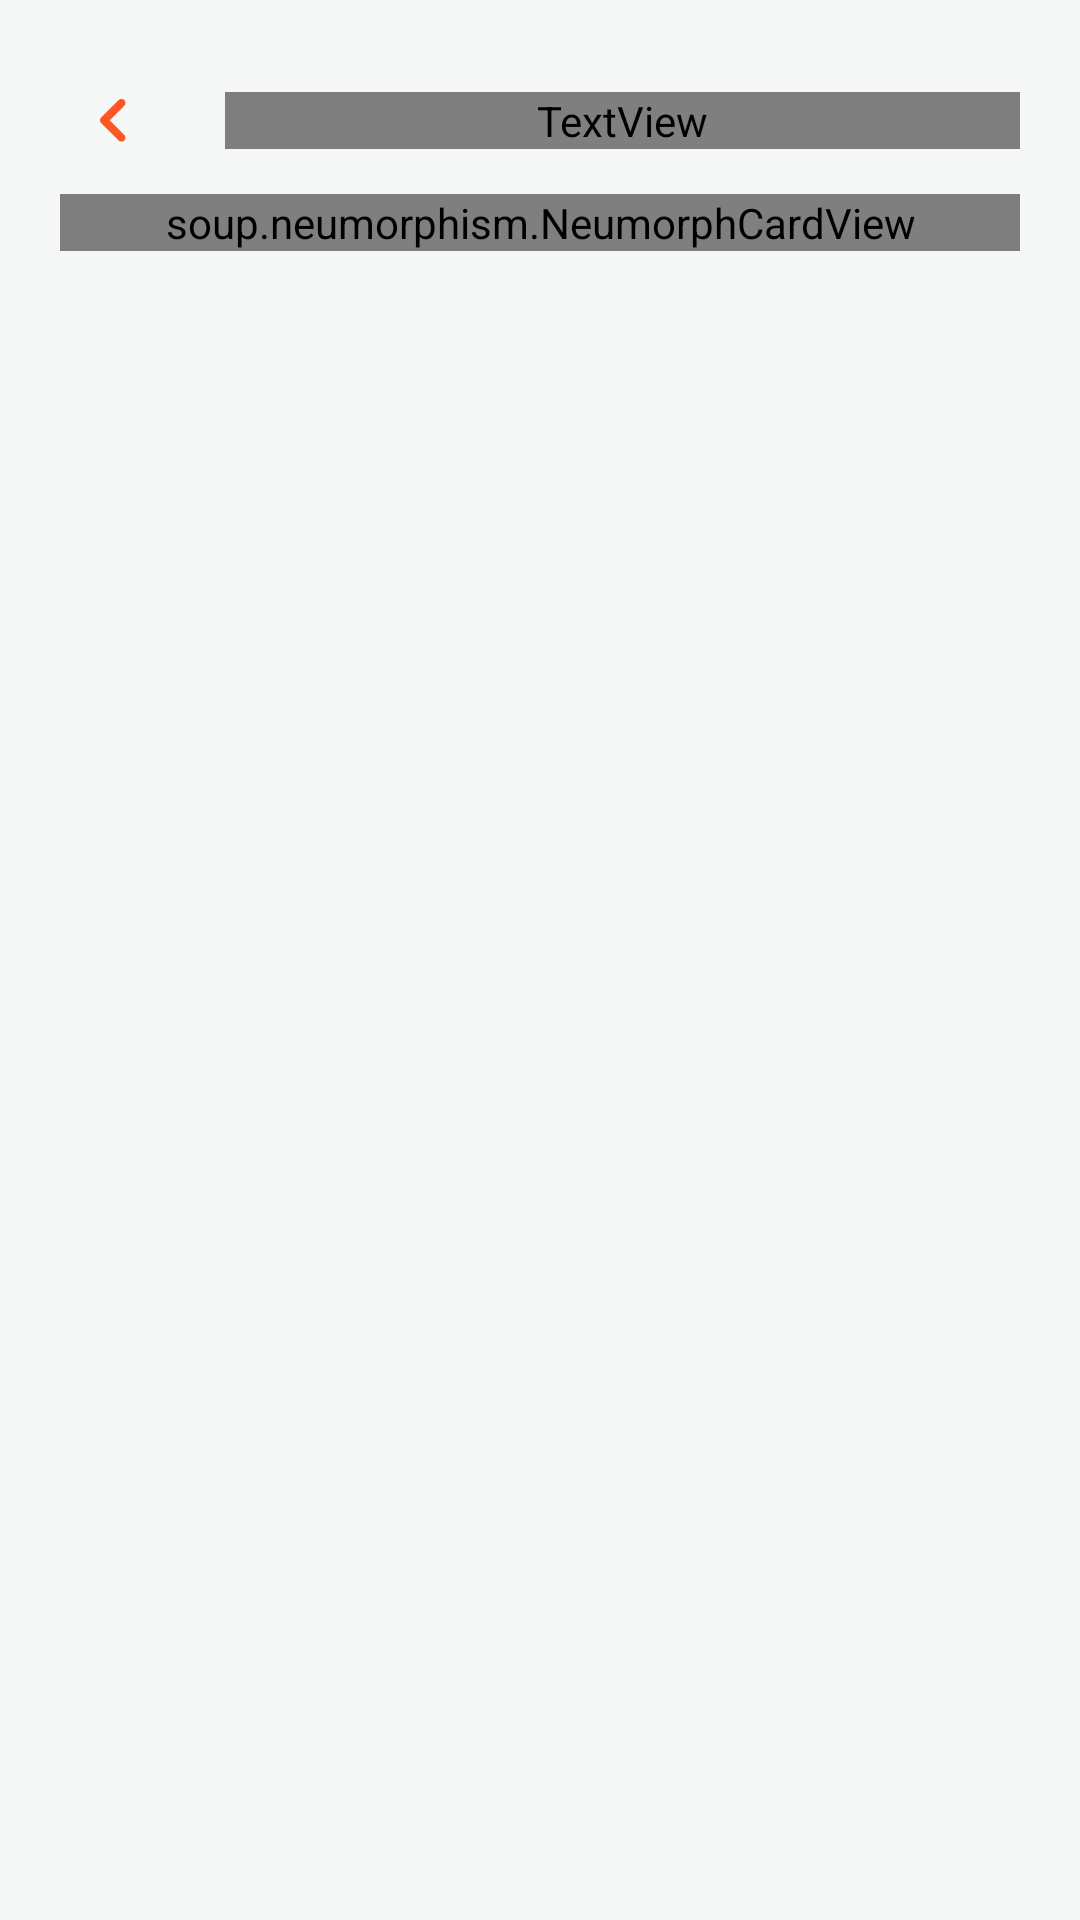

Where to tap for icons on this 1080*1920 app screen, as (x,y):
back: (113,120)
